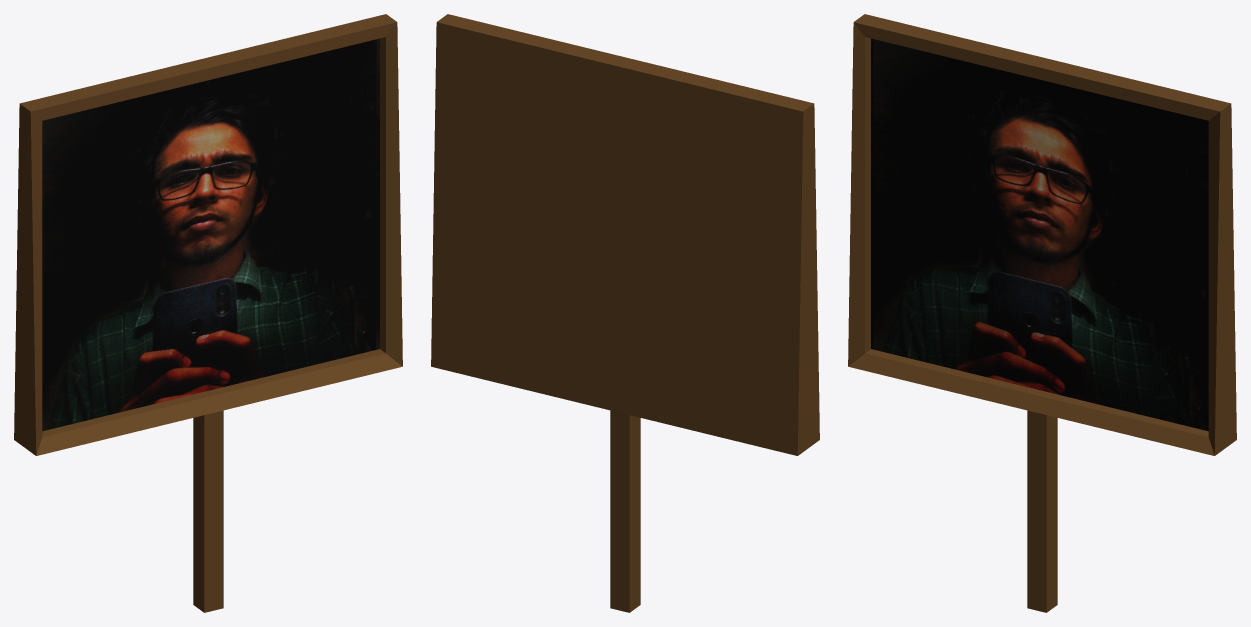
Rendered from image.gltf.
3 views of the same model, side by side, from view 1: azimuth 30°, elevation 25°; view 2: azimuth 150°, elevation 25°; view 3: azimuth 330°, elevation 25° (orthographic).
Visible parts, largest first — view 1: Cube; view 2: Cube; view 3: Cube.
Boxes of the visible parts, x1,y1,x2,y2 form: Cube: [14, 14, 402, 612]; Cube: [431, 14, 819, 612]; Cube: [848, 14, 1236, 612].
Size of the model in its own units: 1.69 by 2.39 by 0.1768.
Materials: 2 (1 with a texture image).
